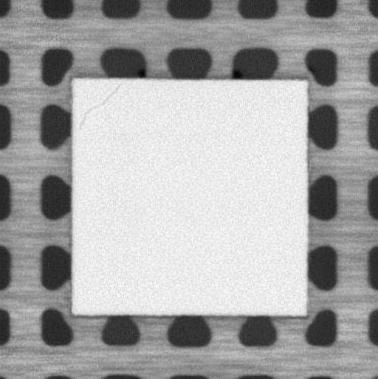DIE_CRACK: (80, 82, 122, 126)
